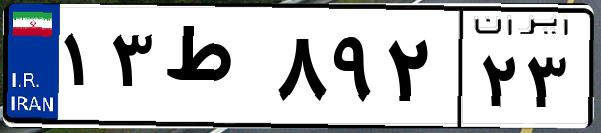1: (57, 26, 110, 100)
2: (385, 28, 445, 110), (475, 38, 525, 113)
3: (525, 38, 570, 115), (110, 28, 158, 98)
8: (270, 28, 330, 110)
9: (330, 28, 385, 110)
ط: (158, 20, 270, 120)
